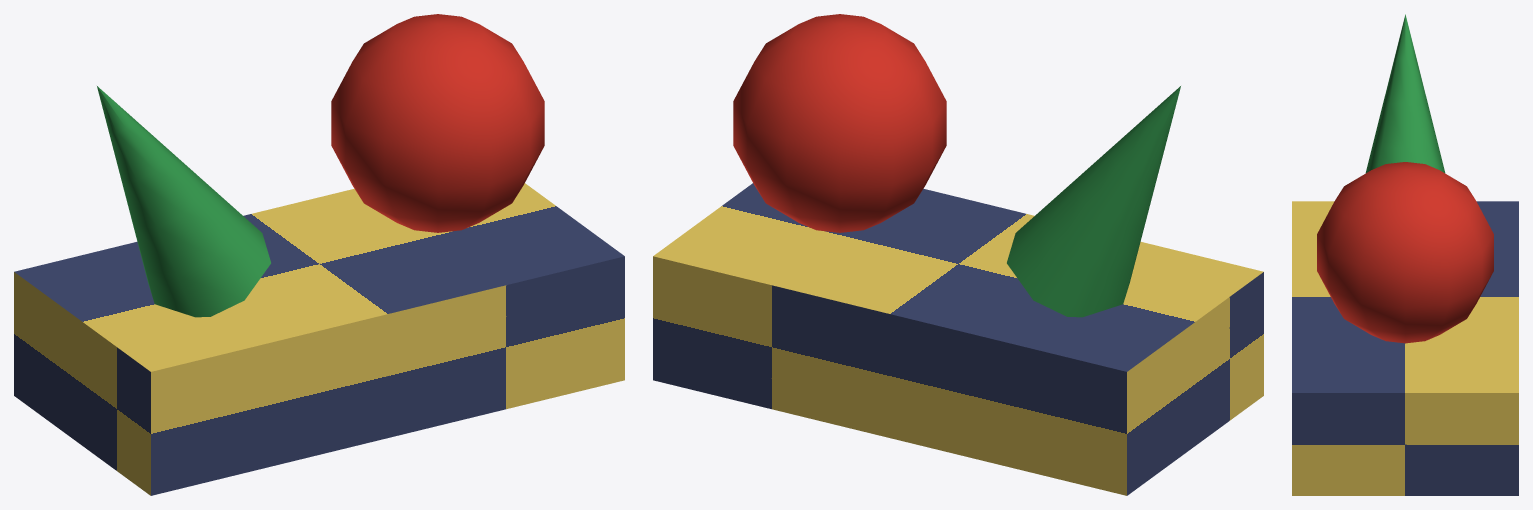
File: props.gltf
The picture shows the model from 3 angles, left to right: view 1: azimuth 30°, elevation 25°; view 2: azimuth 150°, elevation 25°; view 3: azimuth 270°, elevation 25°; orthographic projection. The views are drawn at different scales.
Visible parts, largest first — view 1: Base, Ball, Spike; view 2: Base, Ball, Spike; view 3: Base, Ball, Spike.
Part boxes in pixels (x1=…): Base: x1=14, y1=183, x2=624, y2=495; Ball: x1=331, y1=14, x2=544, y2=232; Spike: x1=97, y1=86, x2=270, y2=317; Base: x1=653, y1=183, x2=1263, y2=495; Ball: x1=733, y1=14, x2=946, y2=232; Spike: x1=1007, y1=86, x2=1180, y2=317; Base: x1=1292, y1=201, x2=1518, y2=495; Ball: x1=1317, y1=162, x2=1493, y2=343; Spike: x1=1365, y1=14, x2=1445, y2=172.
Size of the model in its own units: 2 by 1.44 by 1.
Materials: 3 (1 with a texture image).
